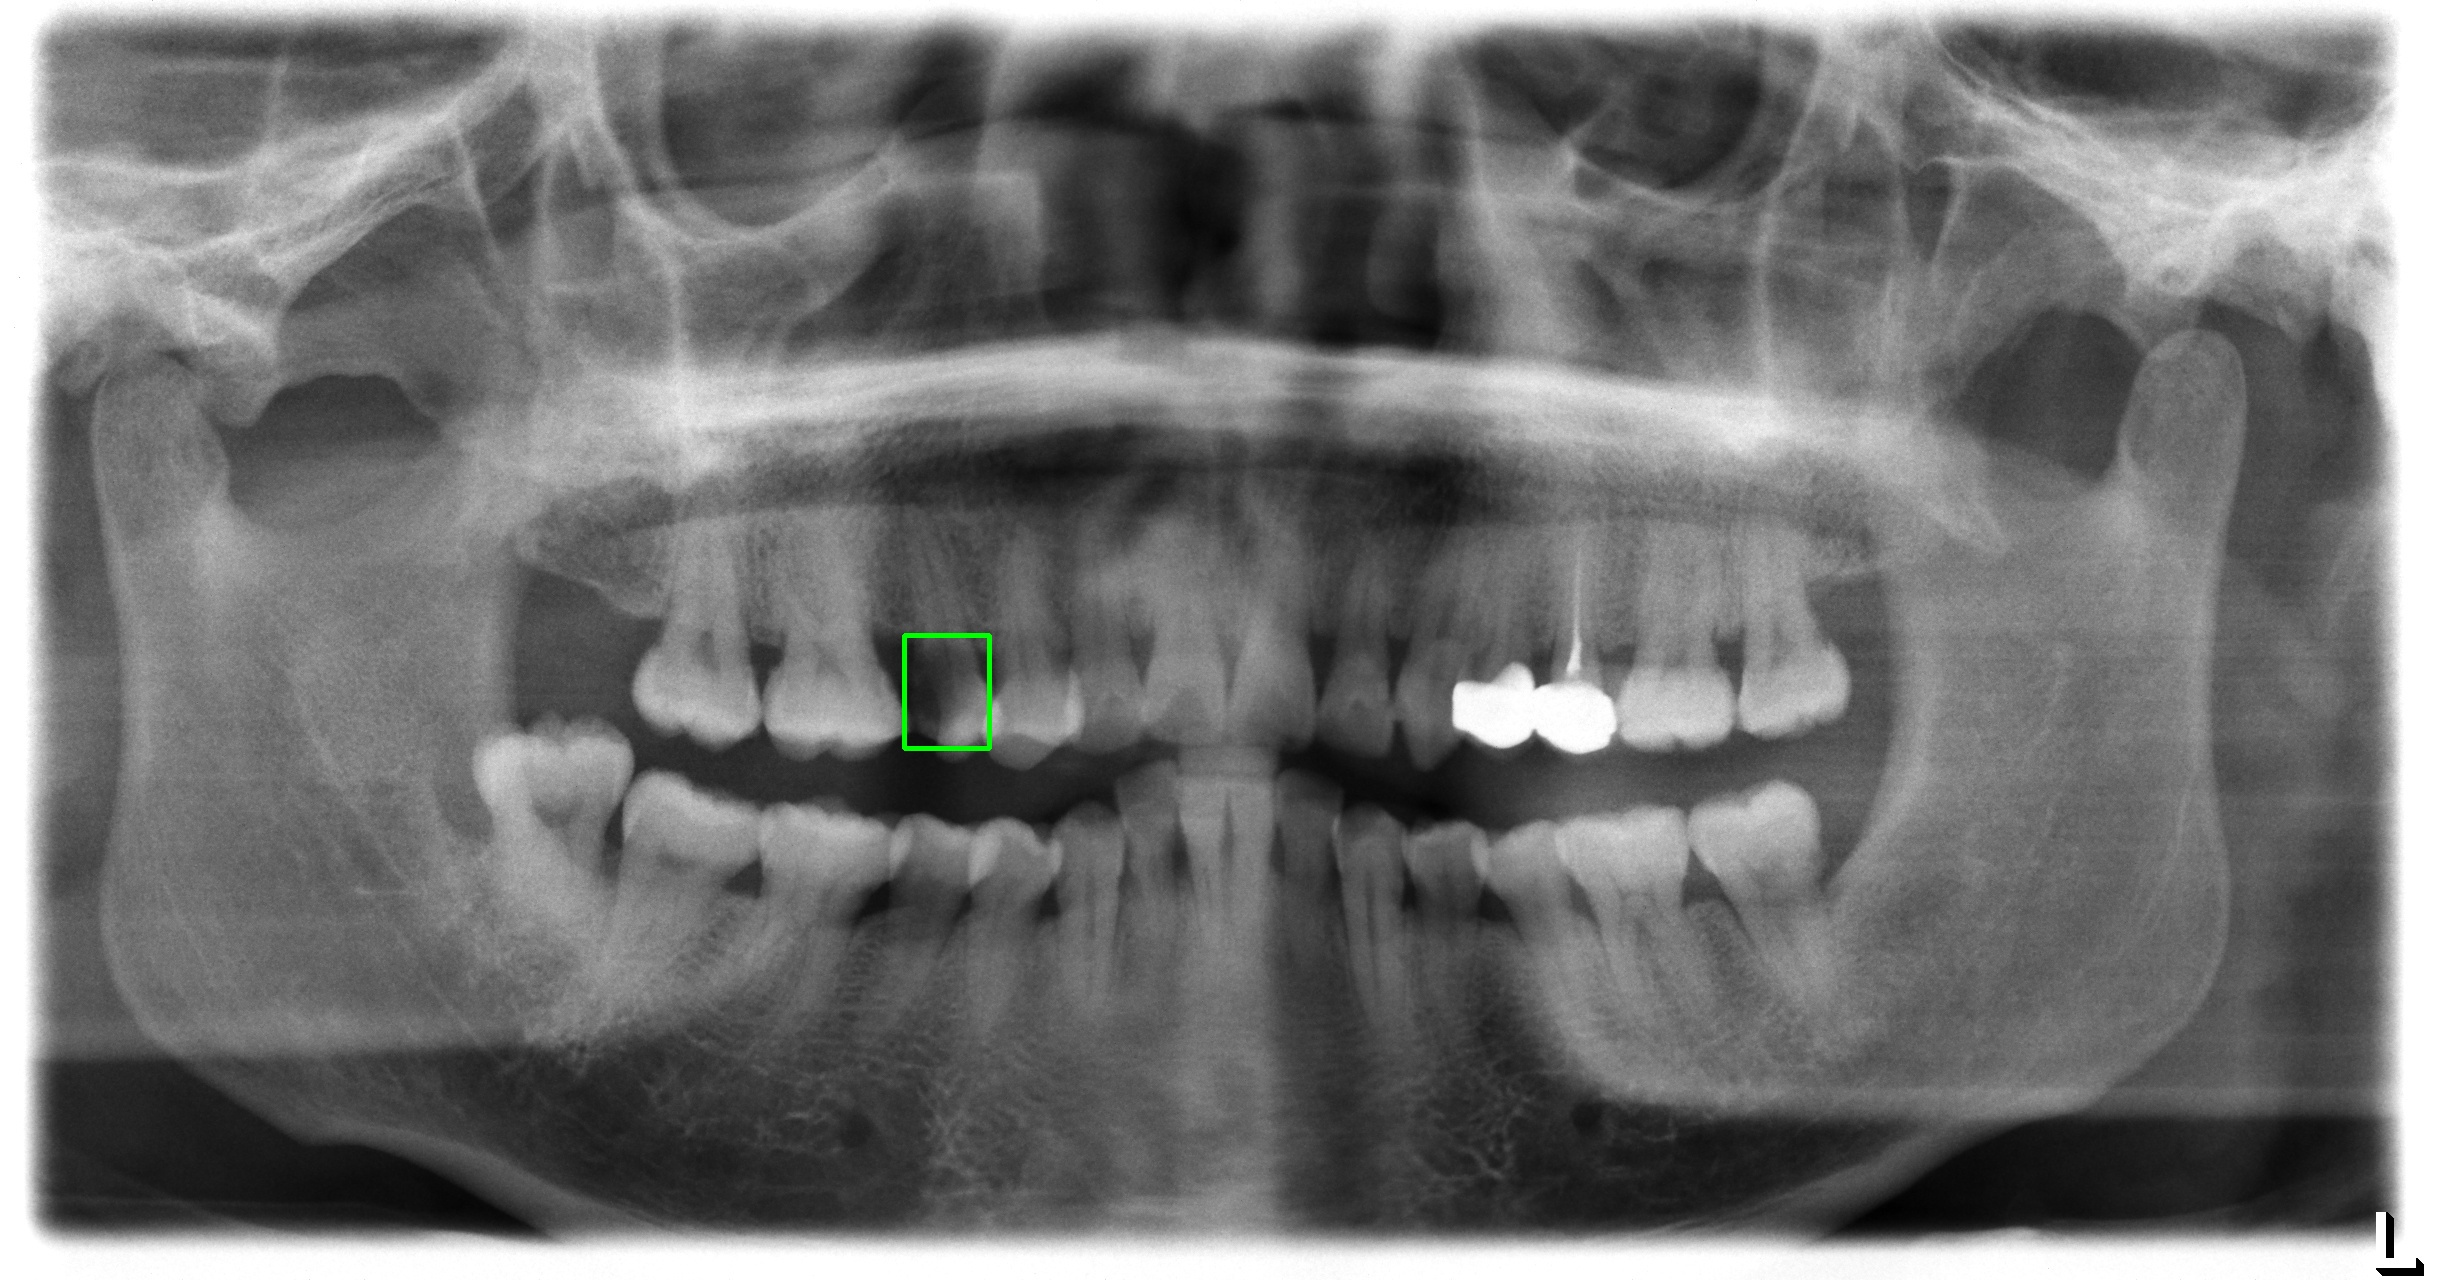Decay: (904, 634, 989, 747)
